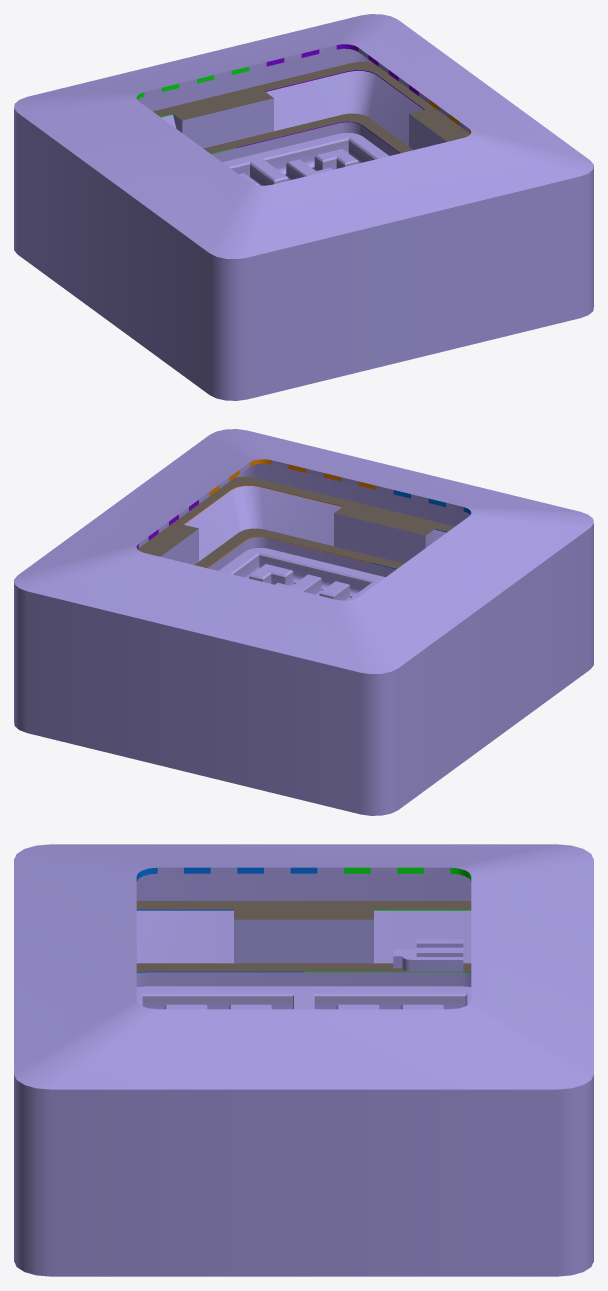
Rendered from voxecutor_arena.fbx.
The picture shows the model from 3 angles, top to bottom: view 1: azimuth 30°, elevation 25°; view 2: azimuth 150°, elevation 25°; view 3: azimuth 270°, elevation 25°; orthographic projection. The views are drawn at different scales.
Parts seen in each view (by area): view 1: Plane; view 2: Plane; view 3: Plane.
Part boxes in pixels (box(x1,y1,x2,y2)): Plane: box(14, 14, 593, 400); Plane: box(14, 429, 593, 815); Plane: box(14, 844, 593, 1276).
Bounding box in the file's own units: 21581 × 8851 × 21581.
